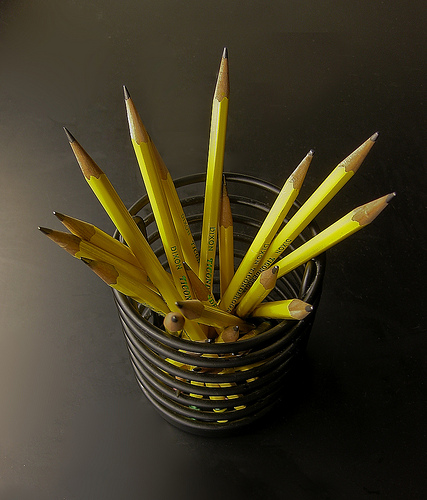pen_tip: (56, 123, 111, 193), (344, 187, 404, 243), (205, 45, 239, 116)
